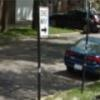cars: (65, 38, 100, 78)
